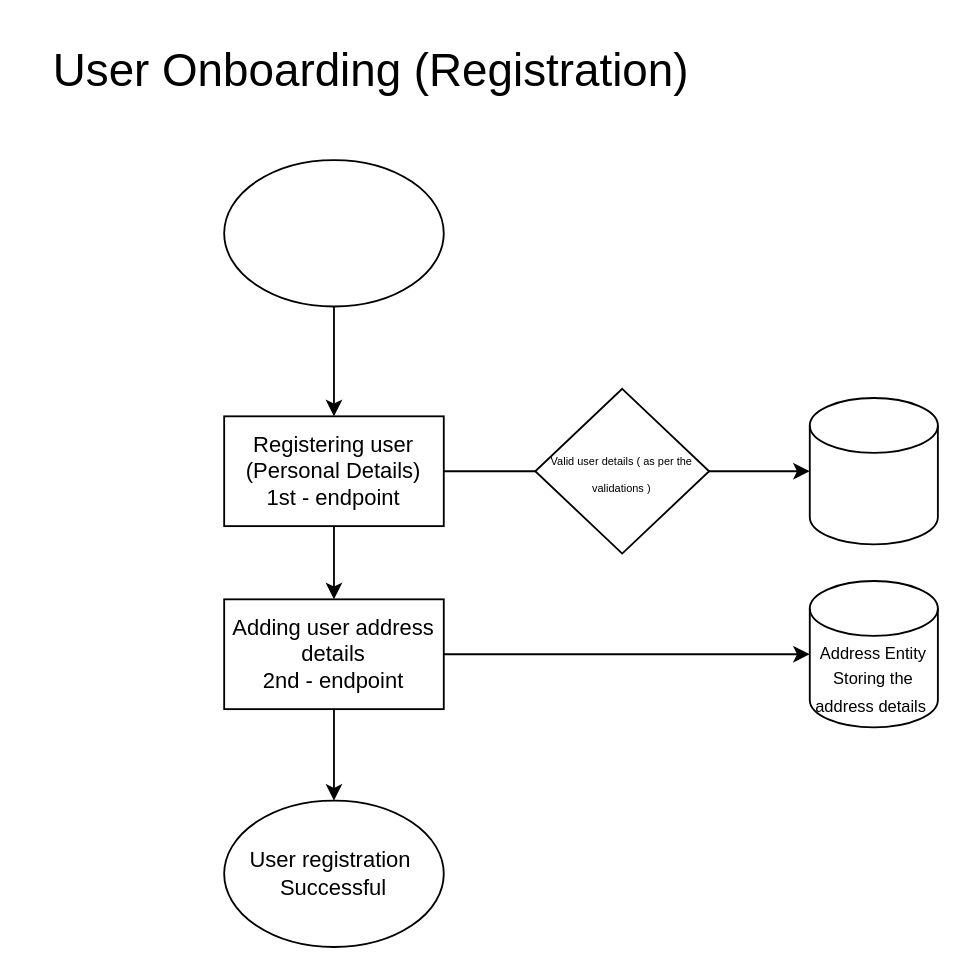
Some shapes in this 970 by 979 pixel diagram are drawn without their labels. Here are the shapes that lost their labels. From the top down, the centre of each, then its label:
At [333,232]: "User registration".
At [873,470]: "Storing the user details".
